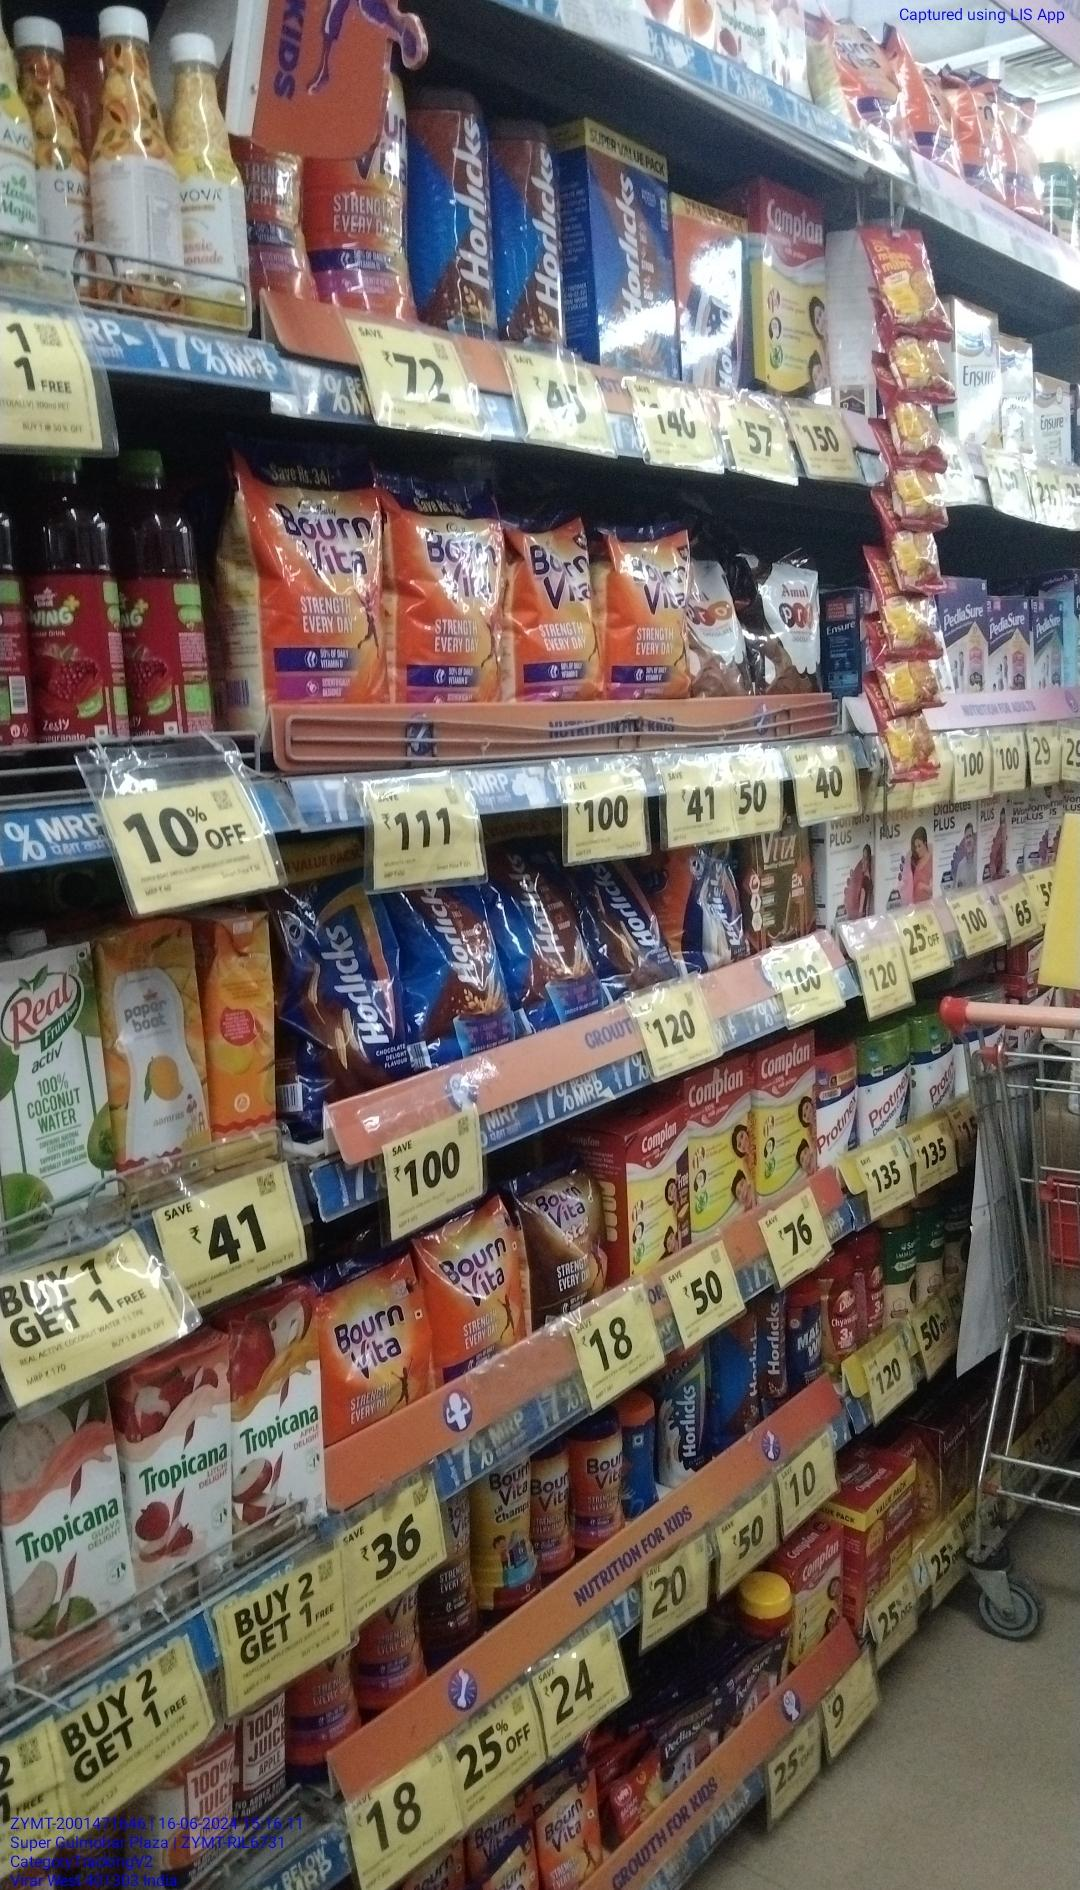HORLICK_CLASSIC_MALT_500_G_JAR: (665, 1347, 711, 1480)
